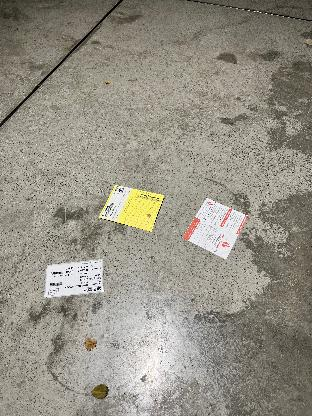Paper: (180, 200, 252, 260), (98, 180, 168, 232), (45, 258, 106, 304)
